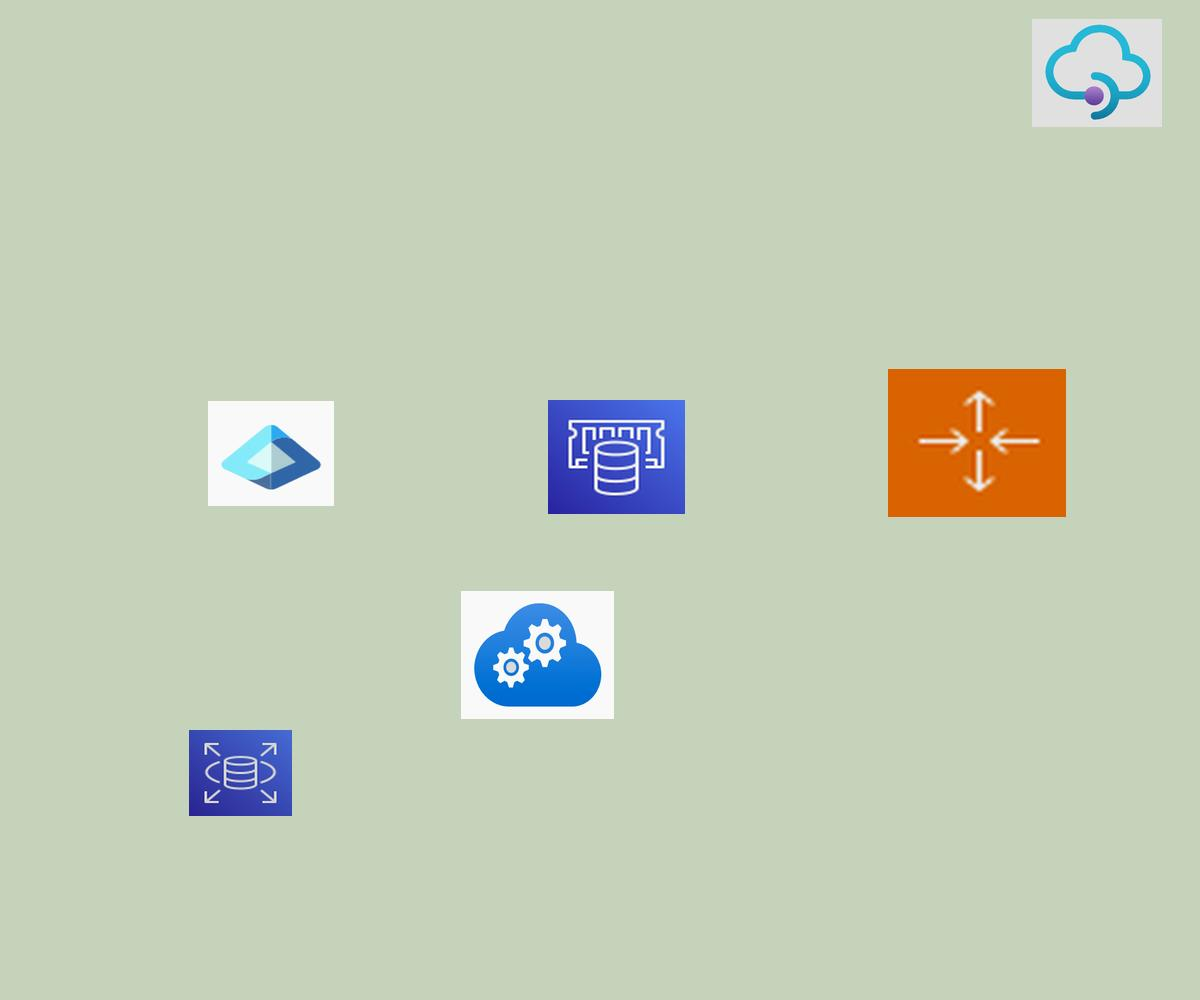AWS-ElastiCache: (548, 400, 685, 514)
AWS-RDS: (189, 730, 292, 816)
AWS-Scaling-group: (888, 369, 1066, 517)
Azure_api_gateway: (1032, 19, 1162, 127)
Azure_cloud_services: (461, 591, 614, 719)
Azure_microsoft_entra: (208, 401, 334, 506)
